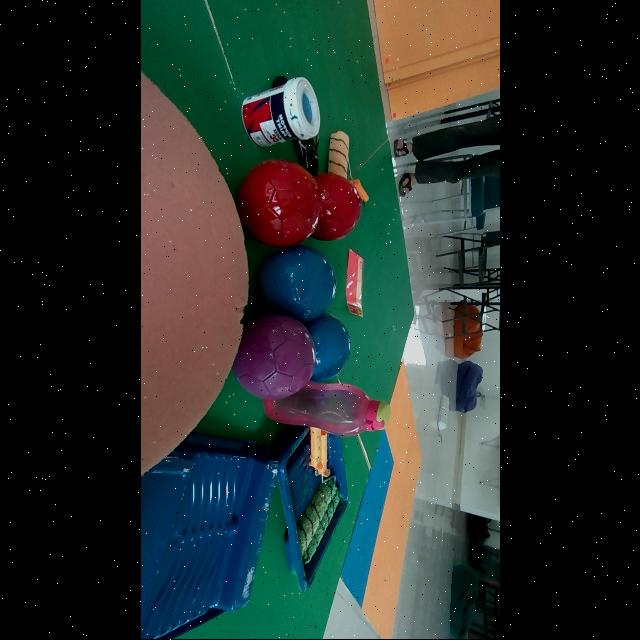B: (258, 246, 336, 323), (303, 314, 350, 382)
P: (232, 315, 316, 400)
R: (237, 159, 321, 248), (312, 172, 362, 242)
